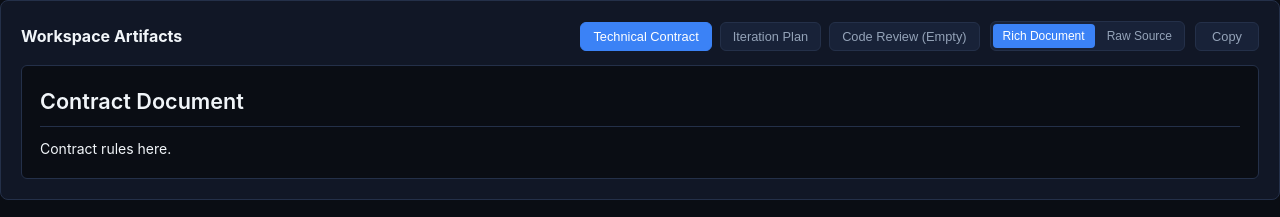
ArtifactViewer Component › renders dynamic configured artifact tabs, displays descriptions, and allows switching
The width and height of the screenshot is (1280, 217).
Expected: the button "Technical Contract" is shown, [580, 22, 712, 50]
Expected: the button "Code Review (Empty)" is shown, [829, 22, 980, 50]
# Click second tab
Click the button "Iteration Plan".
click(770, 36)  # box [720, 22, 821, 50]
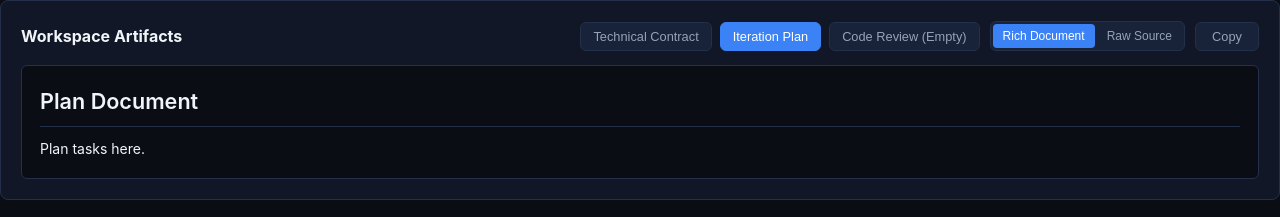
Now the text "Plan tasks here." is shown, box [40, 140, 145, 157]
Now the text "Contract rules here." is gone
# Click empty tab
Click the button "Code Review (Empty)".
click(904, 36)  # box [829, 22, 980, 50]
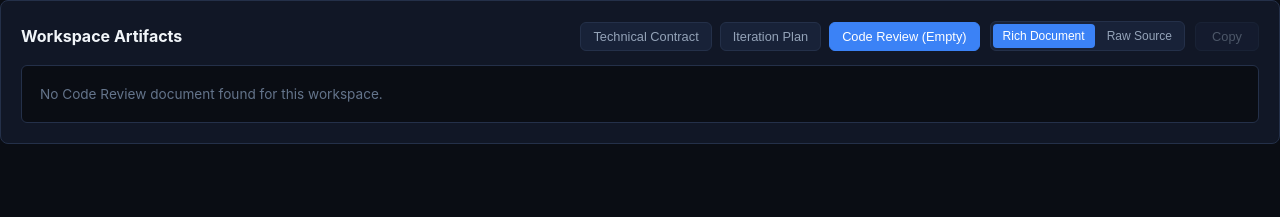
Now the text "No Code Review document found for this workspace." is shown, box [40, 86, 383, 102]
